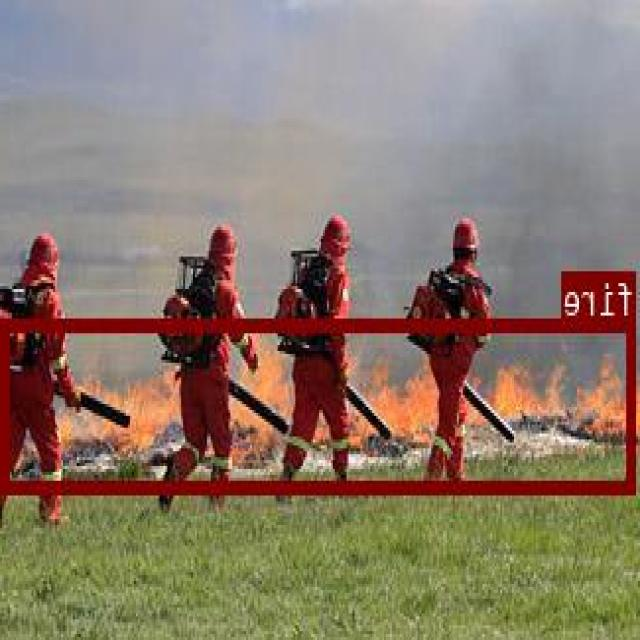fire: (4, 318, 638, 490)
